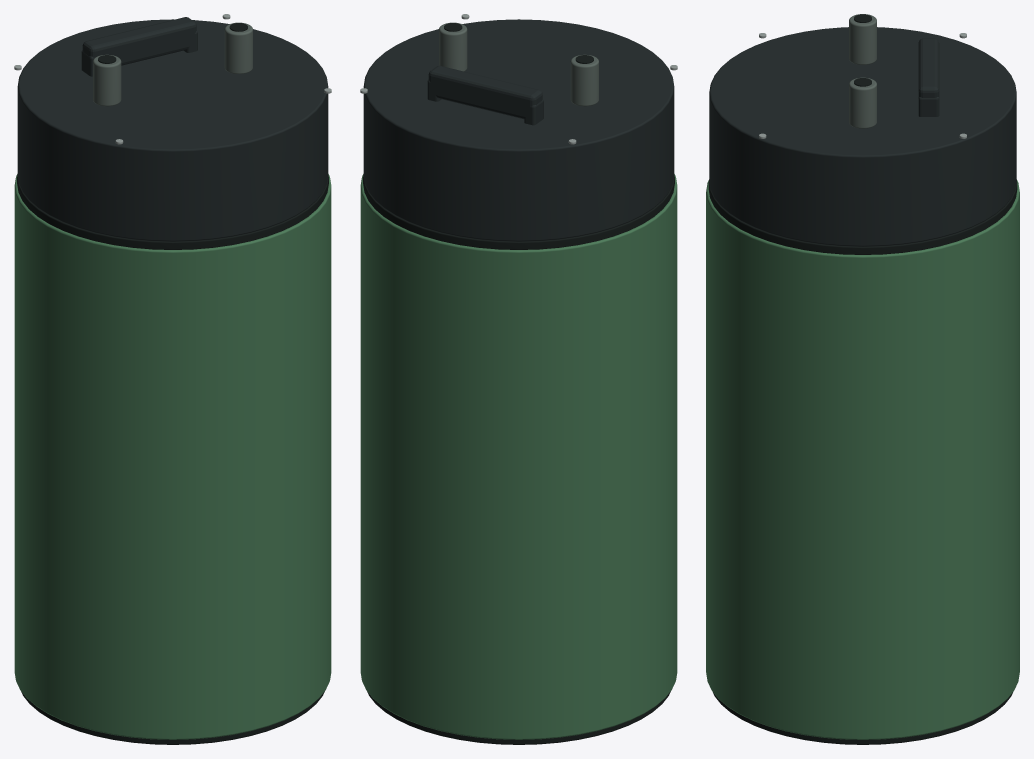
The model's file is filter-eheim-classic-250.glb.
3 views of the same model, side by side, from view 1: azimuth 30°, elevation 25°; view 2: azimuth 150°, elevation 25°; view 3: azimuth 270°, elevation 25° (orthographic).
Visible parts, largest first — view 1: Eheim classic 250 · original housing; view 2: Eheim classic 250 · original housing; view 3: Eheim classic 250 · original housing.
Part boxes in pixels (x1,y1,x2,y2): Eheim classic 250 · original housing: [14, 14, 331, 744]; Eheim classic 250 · original housing: [360, 14, 677, 744]; Eheim classic 250 · original housing: [706, 14, 1019, 744].
Bounding box in the file's own units: 0.16 × 0.355 × 0.16.
